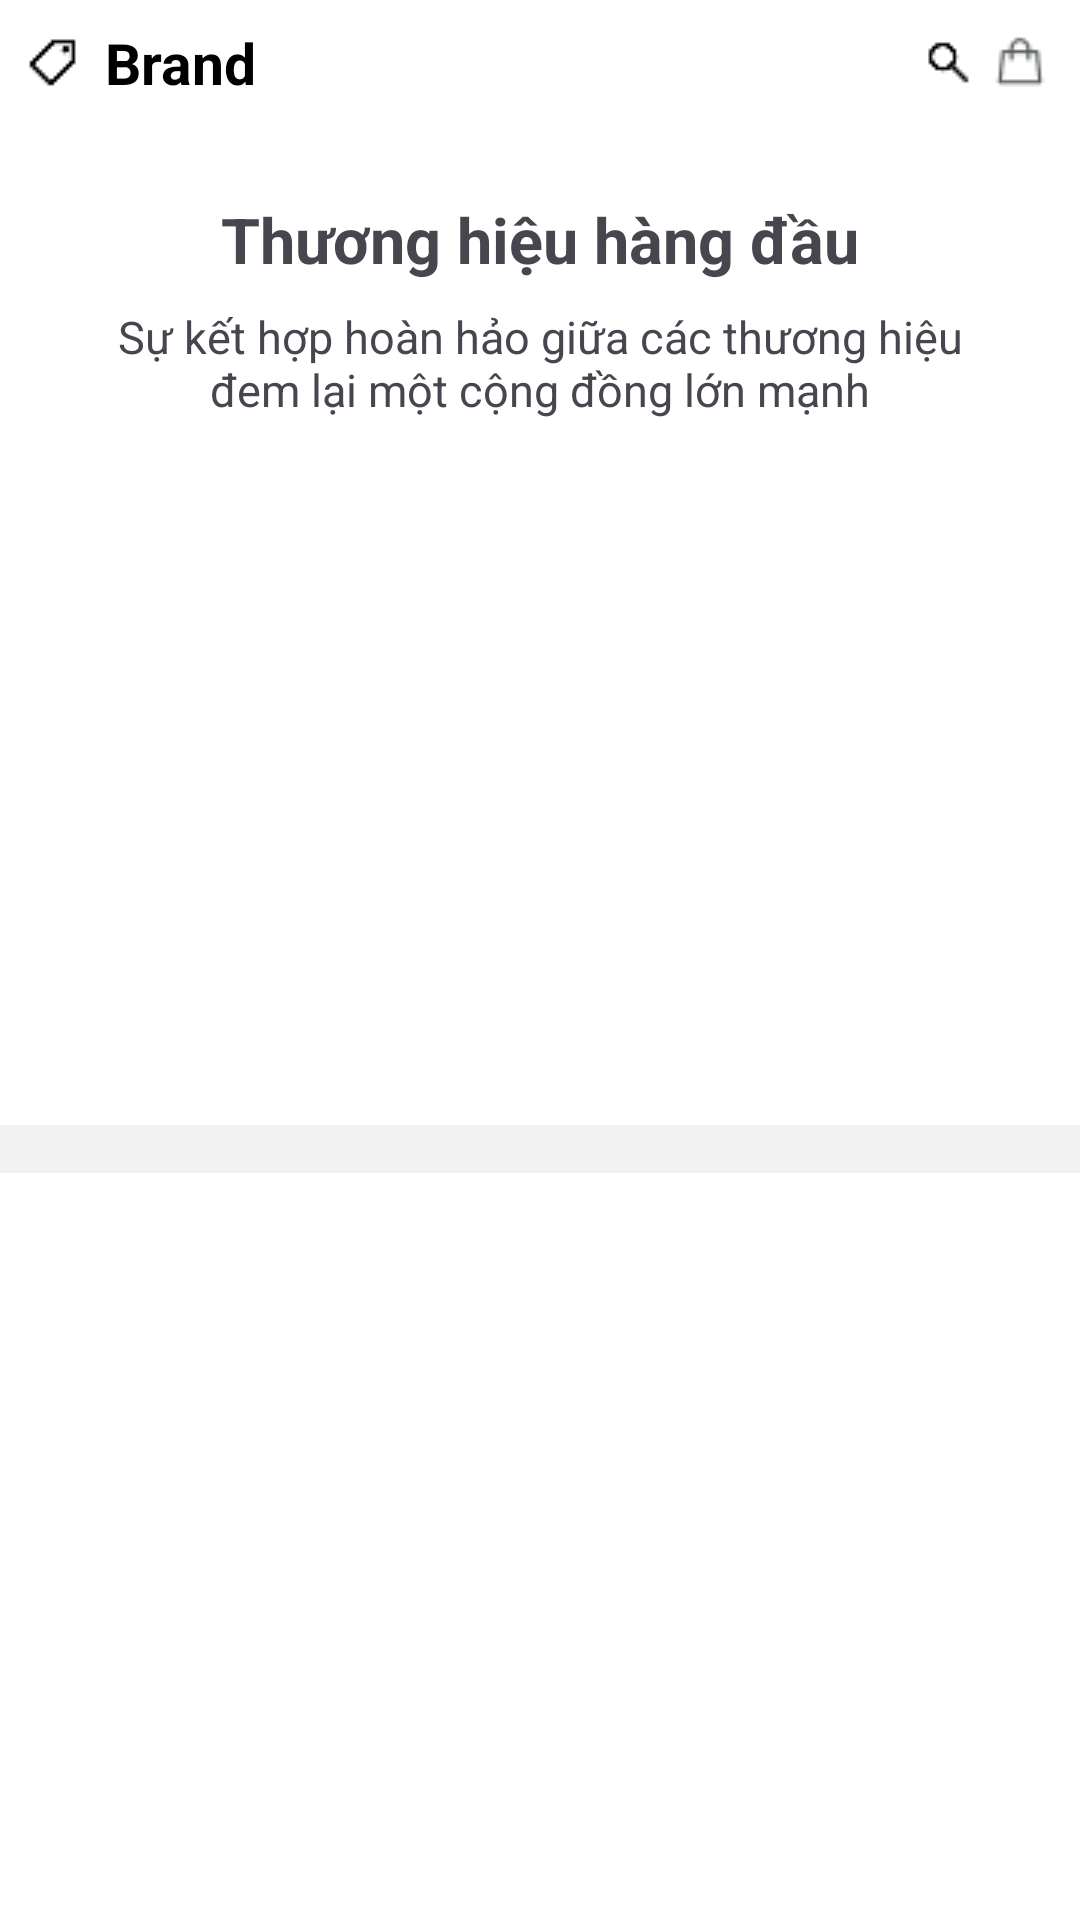

Named icons in this screenshot (1080×1920) and their centers, (x,y):
search: (948,62)
shopping cart: (1019,61)
